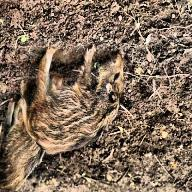boar: (26, 36, 128, 149)
